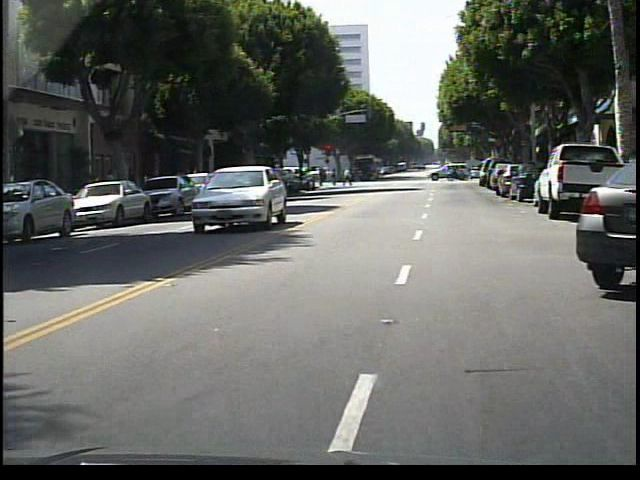person: (337, 163, 357, 192)
